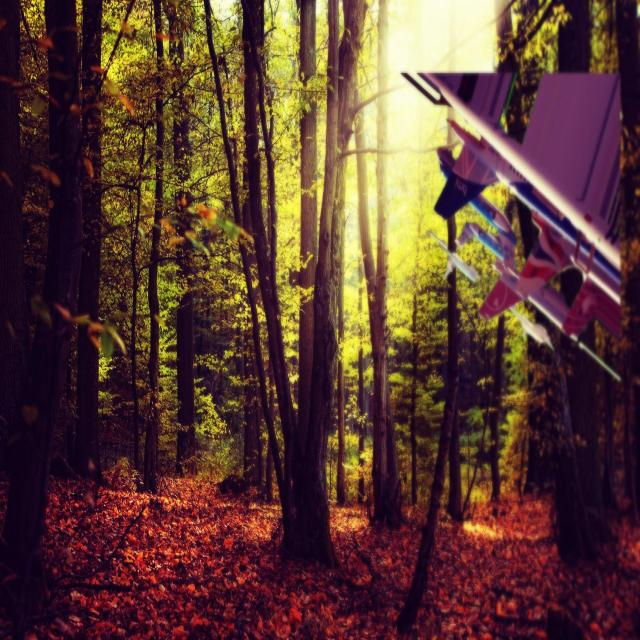airplane: (401, 67, 624, 381)
